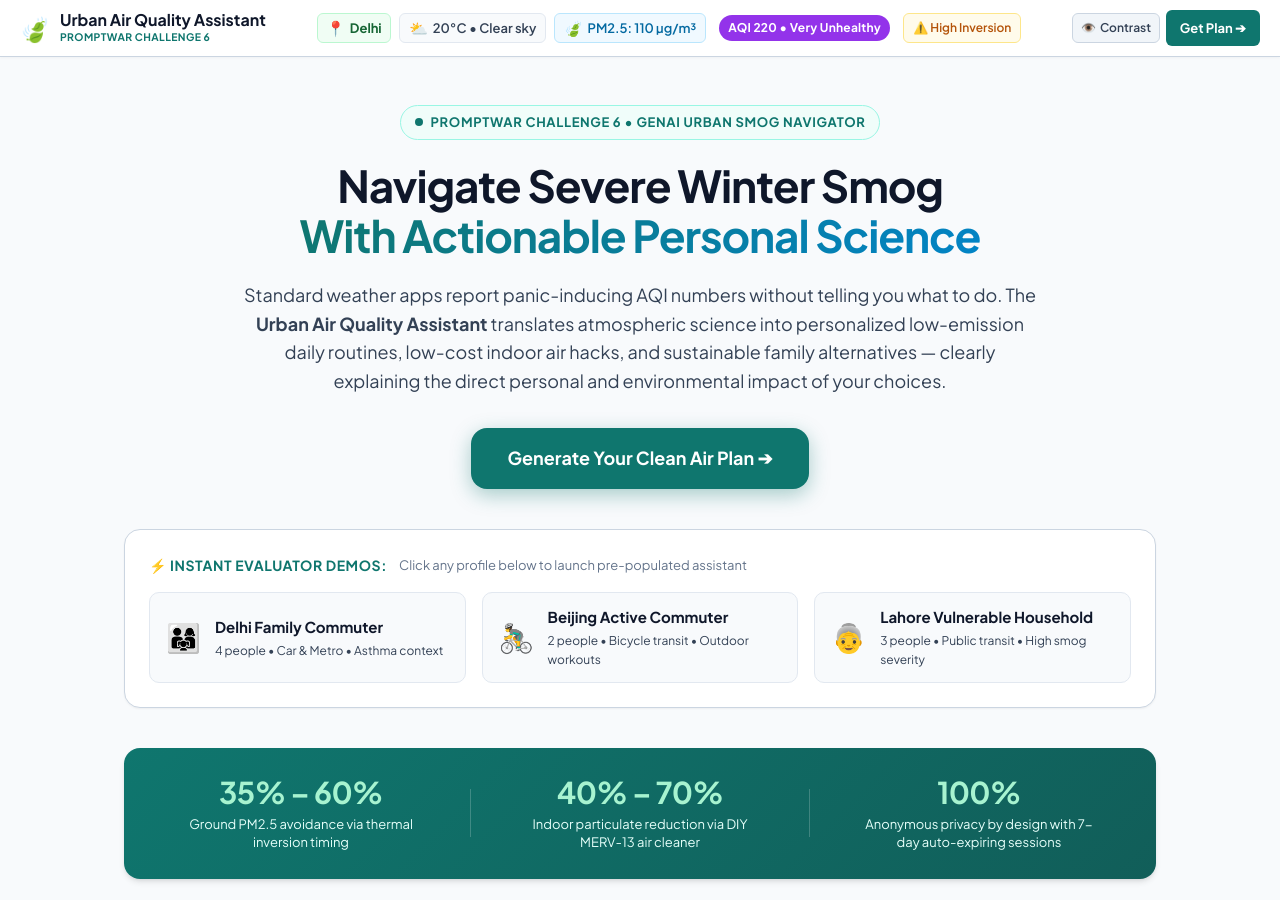
App Root Component & Two-View Architecture › opens dedicated assistant view when clicking an instant evaluator demo preset
The width and height of the screenshot is (1280, 900).
Click the button "Delhi Family Commuter" at (307, 637), box [149, 592, 466, 683]
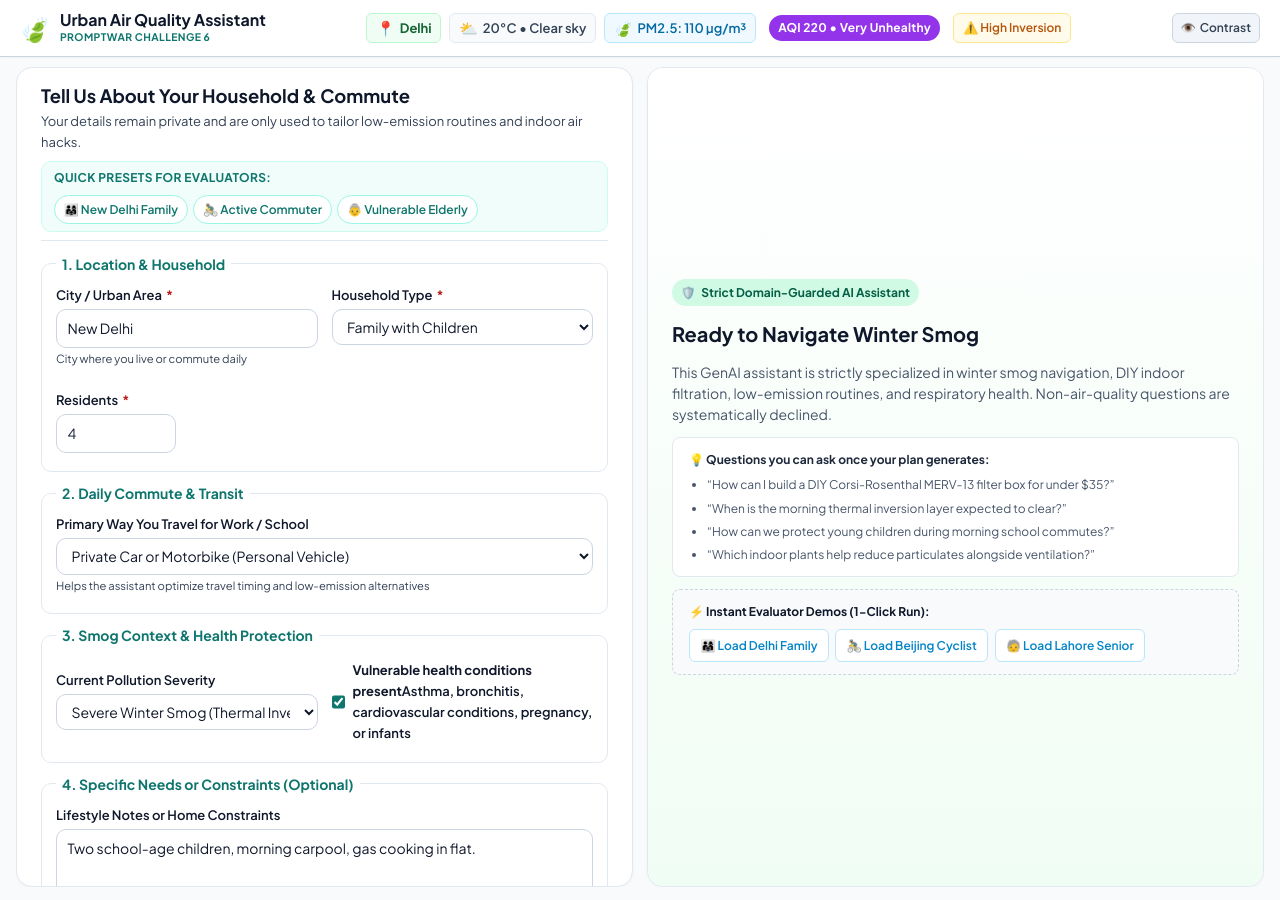
expect the element named "Urban Air Quality Interactive Workspace" is shown: met
expect the field showing "New Delhi" is shown: met, box [56, 309, 318, 348]
